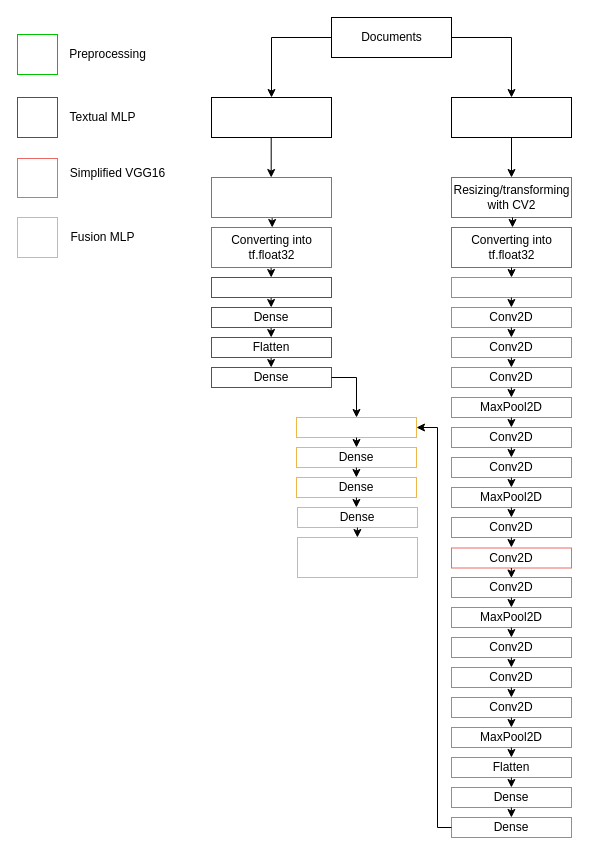
Image size: 599x855. Some labels were removed from this diagram. Each missing label, with the box of its shape:
Concatenate: (296, 416, 416, 438)
Image input layer: (450, 276, 572, 298)
Images: (450, 96, 572, 138)
Output (Dense): (296, 536, 418, 578)
Text input layer: (210, 276, 332, 298)
Texts: (210, 96, 332, 138)
Tokenizing/Encoding with BERT: (210, 176, 332, 218)
